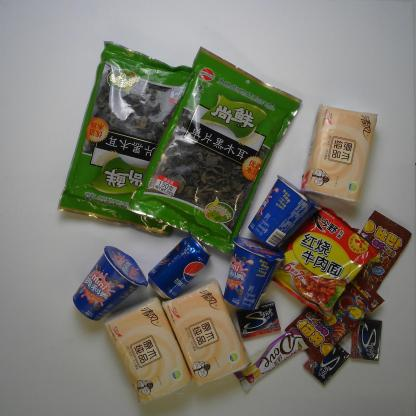Candy: (284, 275, 386, 364), (359, 210, 412, 291)
Chocolate: (234, 327, 309, 392)
Dessert: (72, 246, 150, 321), (248, 174, 322, 250), (224, 236, 286, 310)
Dried Food: (127, 46, 303, 255), (57, 40, 193, 235)
Drink: (148, 235, 212, 300)
Gum: (303, 344, 350, 385), (236, 301, 282, 339), (350, 320, 382, 361)
Instant Noodles: (272, 204, 382, 321)
Tissue: (162, 276, 251, 386), (103, 296, 193, 403), (300, 104, 378, 203)
